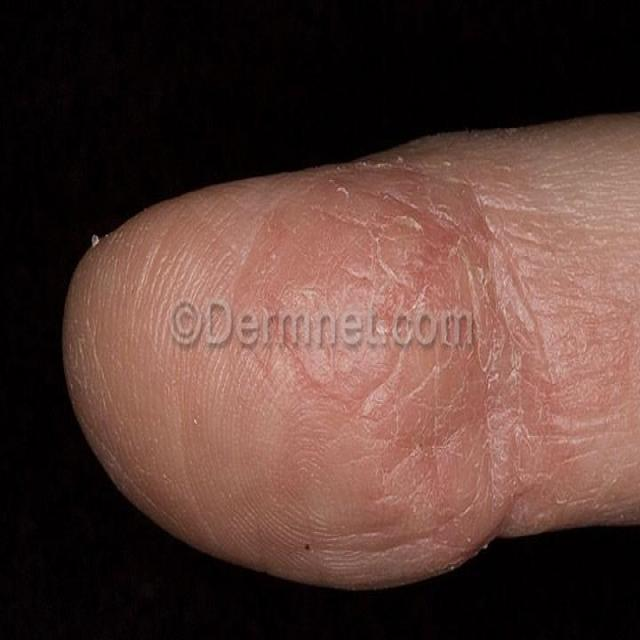Eczema: (61, 154, 517, 572)
